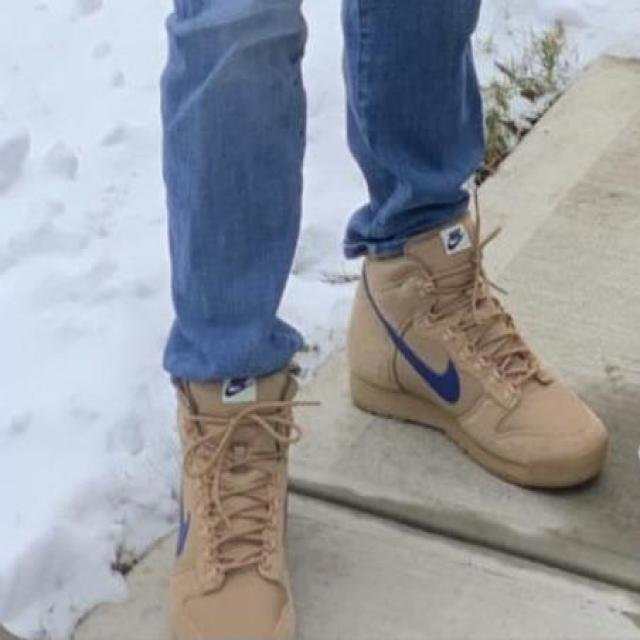shoe: (333, 177, 624, 512), (142, 343, 321, 640)
